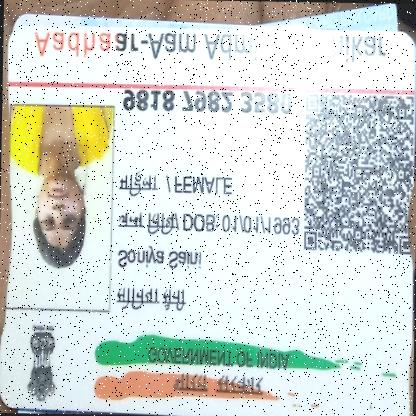aadhaar_card: (3, 18, 415, 413)
